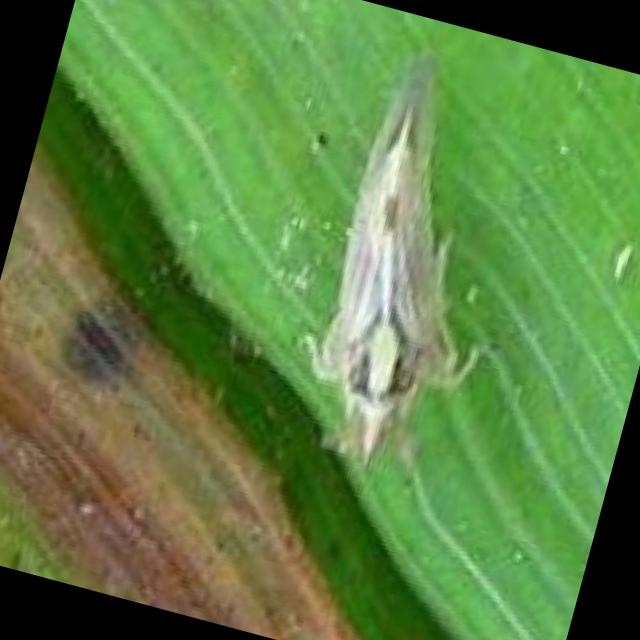brown-planthopper: (274, 30, 534, 478)
